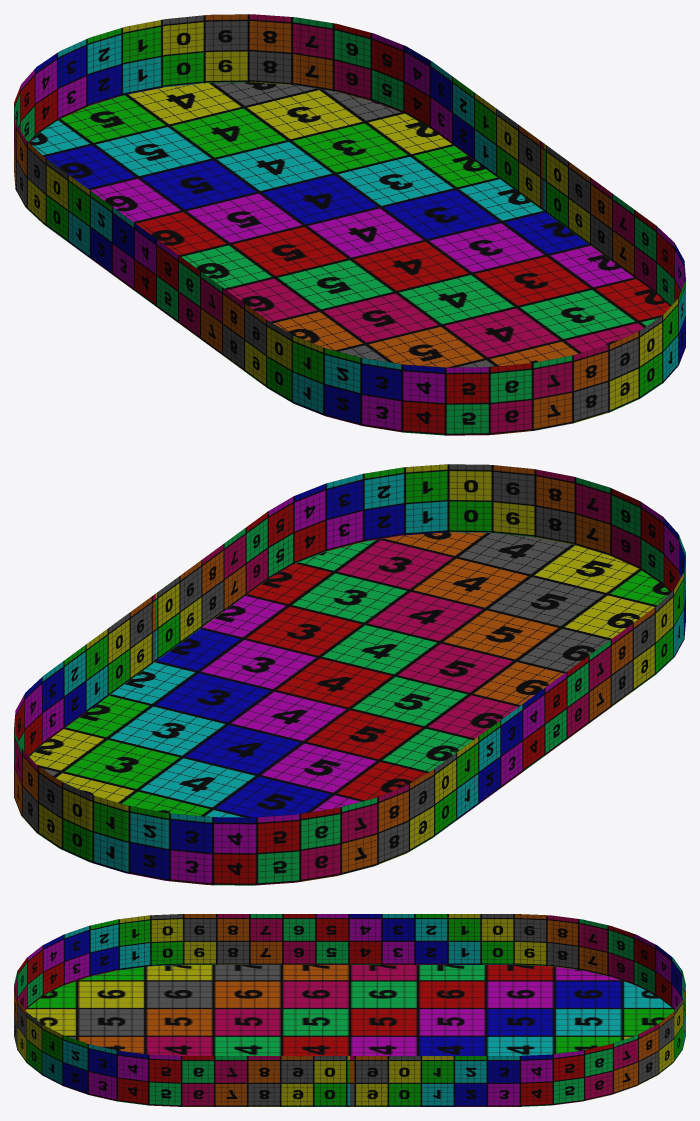
Rendered from Track.fbx.
The picture shows the model from 3 angles, top to bottom: view 1: azimuth 30°, elevation 25°; view 2: azimuth 150°, elevation 25°; view 3: azimuth 270°, elevation 25°; orthographic projection. The views are drawn at different scales.
Visible parts, largest first — view 1: Ground, InnerWall, OuterWall; view 2: Ground, InnerWall, OuterWall; view 3: InnerWall, Ground, OuterWall.
Boxes of the visible parts, box(x1,y1,x2,y2) form: Ground: box(30, 82, 669, 367); InnerWall: box(14, 14, 685, 435); OuterWall: box(14, 14, 685, 435); Ground: box(30, 532, 669, 817); InnerWall: box(14, 464, 685, 885); OuterWall: box(14, 464, 685, 885); InnerWall: box(14, 914, 685, 1106); Ground: box(25, 965, 674, 1055); OuterWall: box(14, 914, 685, 1106).
Size of the model in its own units: 200 by 33.49 by 400.
